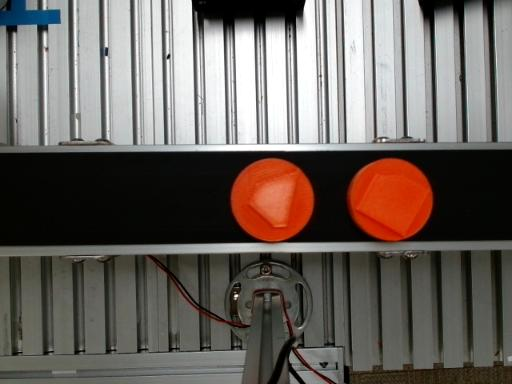Not_Square: (355, 172, 431, 237), (247, 170, 300, 229)
Orange_Waper: (347, 158, 433, 241), (230, 158, 314, 241)
